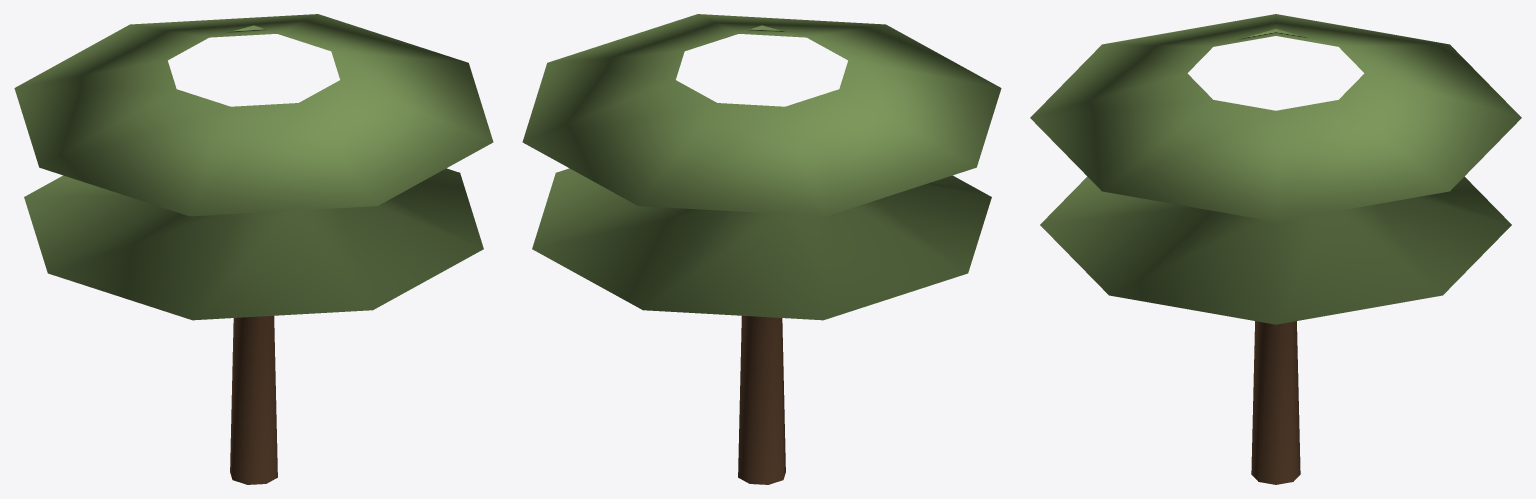
File: open-canopy.gltf
3 views of the same model, side by side, from view 1: azimuth 30°, elevation 25°; view 2: azimuth 150°, elevation 25°; view 3: azimuth 270°, elevation 25° (orthographic).
Visible parts, largest first — view 1: open-canopy; view 2: open-canopy; view 3: open-canopy.
Boxes of the visible parts, left/top/right/bottom form: open-canopy: left=14, top=14, right=493, bottom=484; open-canopy: left=522, top=14, right=1001, bottom=484; open-canopy: left=1030, top=14, right=1521, bottom=484.
Bounding box in the file's own units: 1 × 1 × 1.
